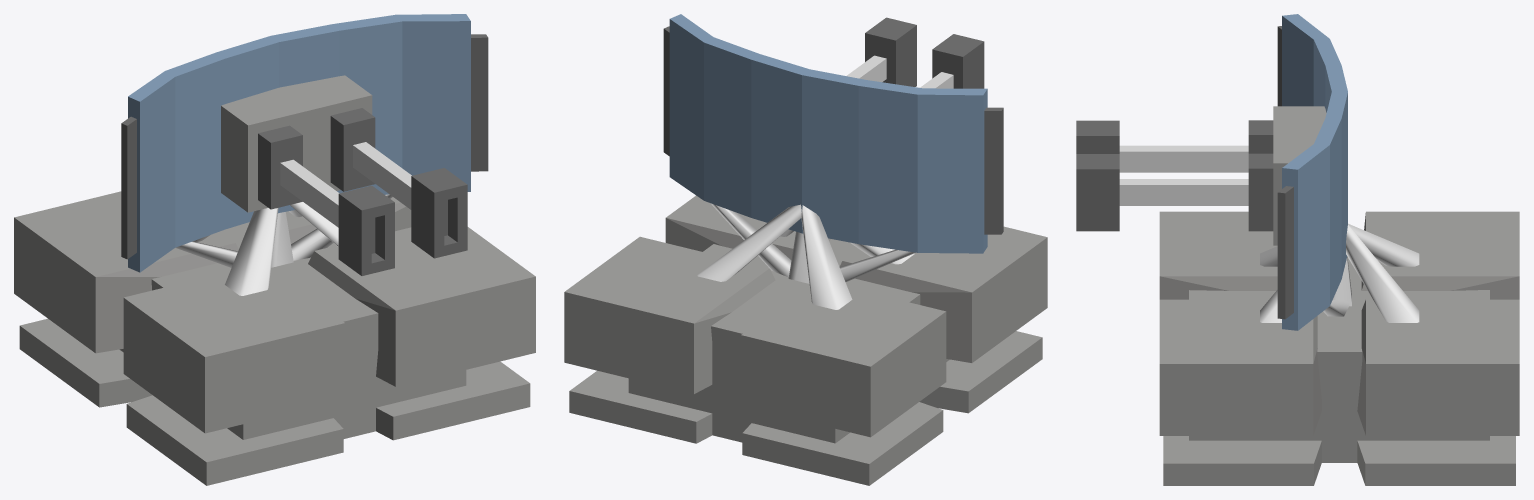
File: TorreRadarAVC3.fbx
3 views of the same model, side by side, from view 1: azimuth 30°, elevation 25°; view 2: azimuth 150°, elevation 25°; view 3: azimuth 270°, elevation 25° (orthographic). The views are drawn at different scales.
Parts seen in each view (by area): view 1: Base, Torre; view 2: Base, Torre; view 3: Base, Torre.
Part boxes in pixels (left/top/right/bottom): Base: left=14, top=191, right=535, bottom=485; Torre: left=121, top=14, right=488, bottom=275; Base: left=564, top=195, right=1047, bottom=485; Torre: left=663, top=14, right=1003, bottom=283; Base: left=1159, top=211, right=1519, bottom=485; Torre: left=1076, top=14, right=1351, bottom=330.
Size of the model in its own units: 445 by 396 by 497.
